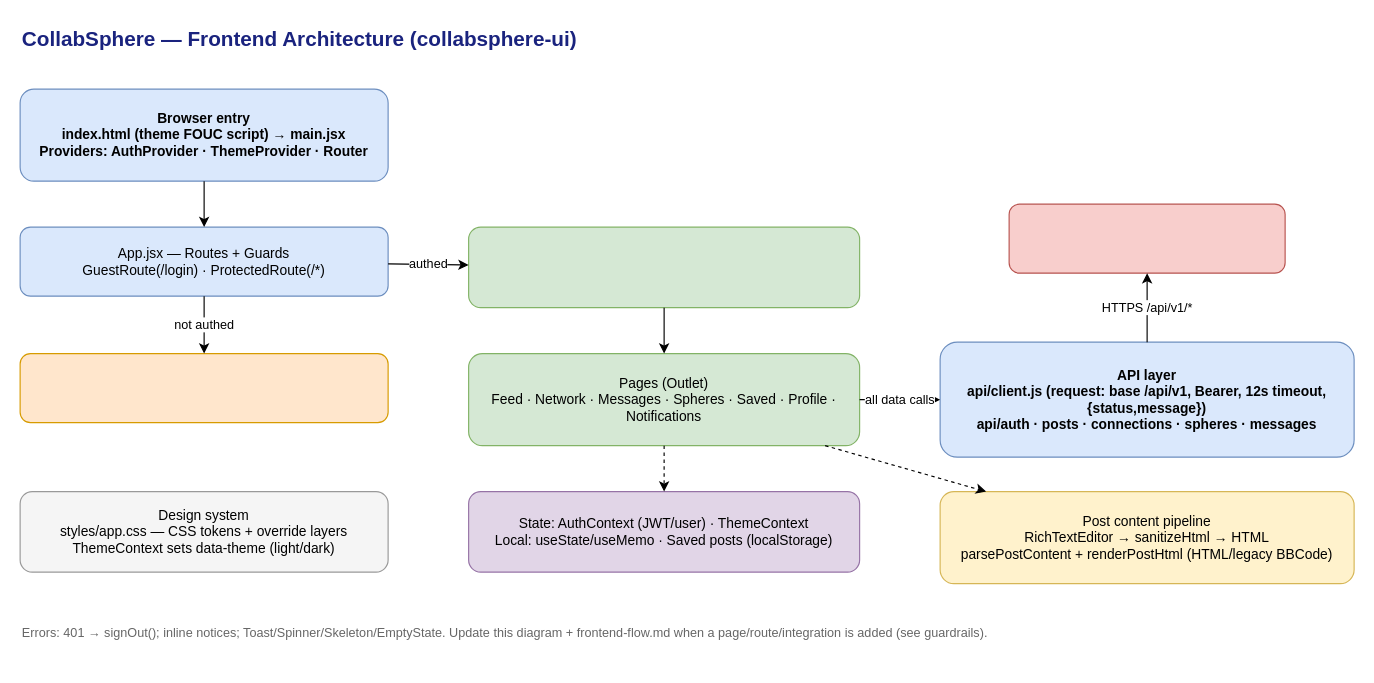
Image size: 1374x683. Some labels were removed from this diagram. The centre of each missing label's shape, as x and y in pixels:
API Gateway :8007 (see backend-architecture.drawio): the point at 1146,238
AppShell (authed layout) Sidebar · TopBar · CommandPalette · Outlet: the point at 663,267
AuthPage (/login) login/signup → JWT → AuthContext.signIn: the point at 203,387
